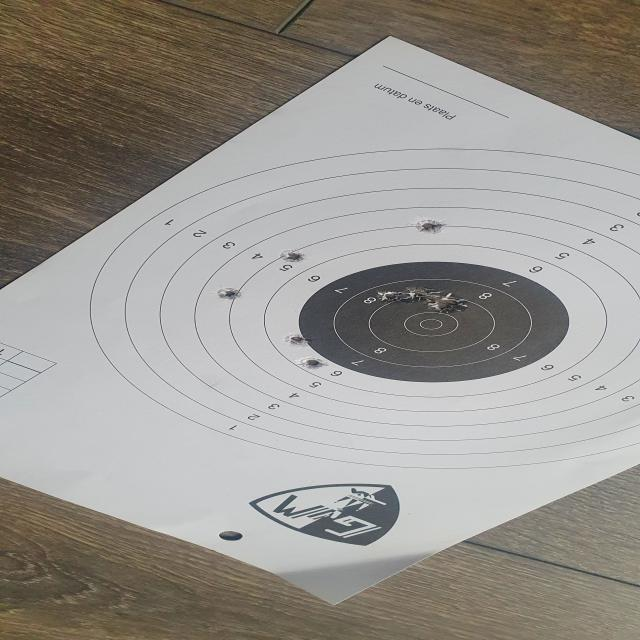5: (276, 249, 308, 263), (415, 219, 447, 233), (215, 288, 242, 300)
6: (295, 356, 327, 371)
7: (278, 333, 316, 348)
9: (407, 288, 435, 300), (429, 302, 456, 314), (379, 291, 405, 303), (444, 296, 466, 308)
Target: (83, 150, 640, 470)
black_contour: (299, 262, 568, 382)
